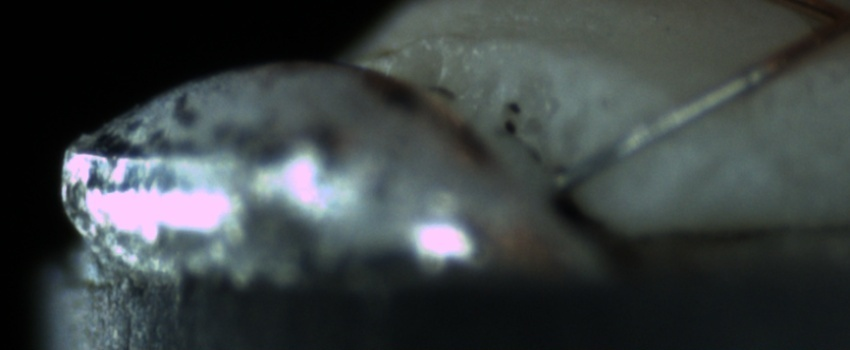CL: (796, 0, 850, 48)
TS: (555, 66, 768, 188)
